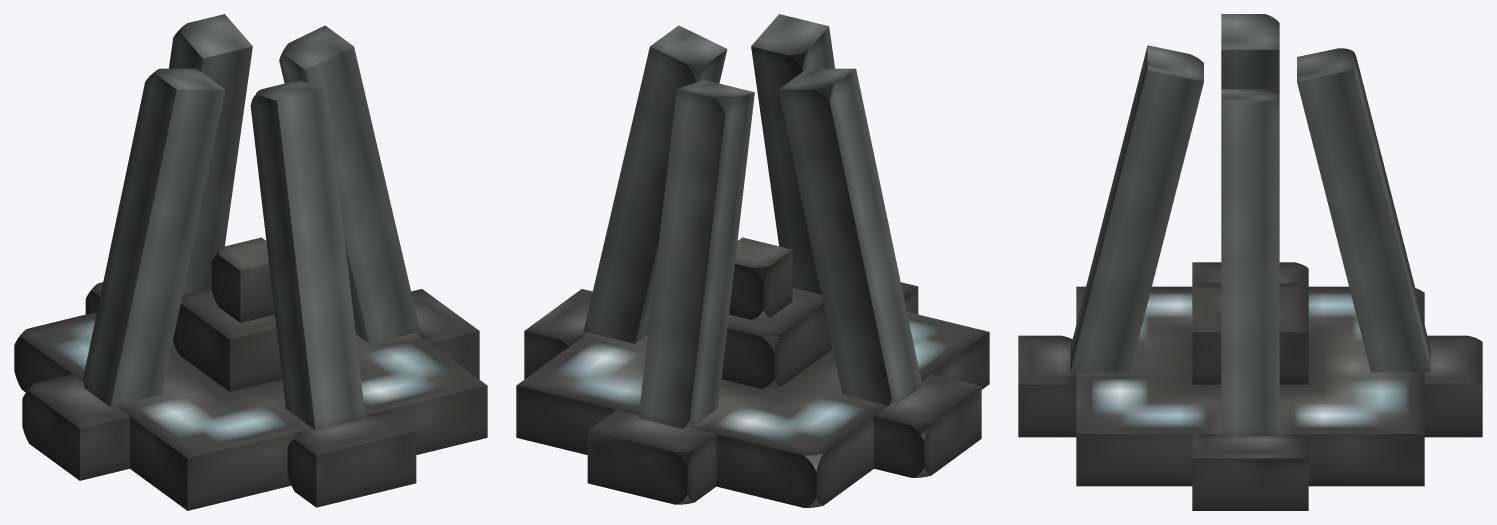
The model's file is modeloutputroutingnodebase.obj.
3 views of the same model, side by side, from view 1: azimuth 30°, elevation 25°; view 2: azimuth 150°, elevation 25°; view 3: azimuth 270°, elevation 25° (orthographic).
Visible parts, largest first — view 1: ModelRoutingNode; view 2: ModelRoutingNode; view 3: ModelRoutingNode.
Boxes of the visible parts, x1,y1,x2,y2 form: ModelRoutingNode: (14, 14, 487, 510); ModelRoutingNode: (516, 14, 989, 507); ModelRoutingNode: (1018, 14, 1482, 510).
Size of the model in its own units: 0.5 by 0.4223 by 0.5.
